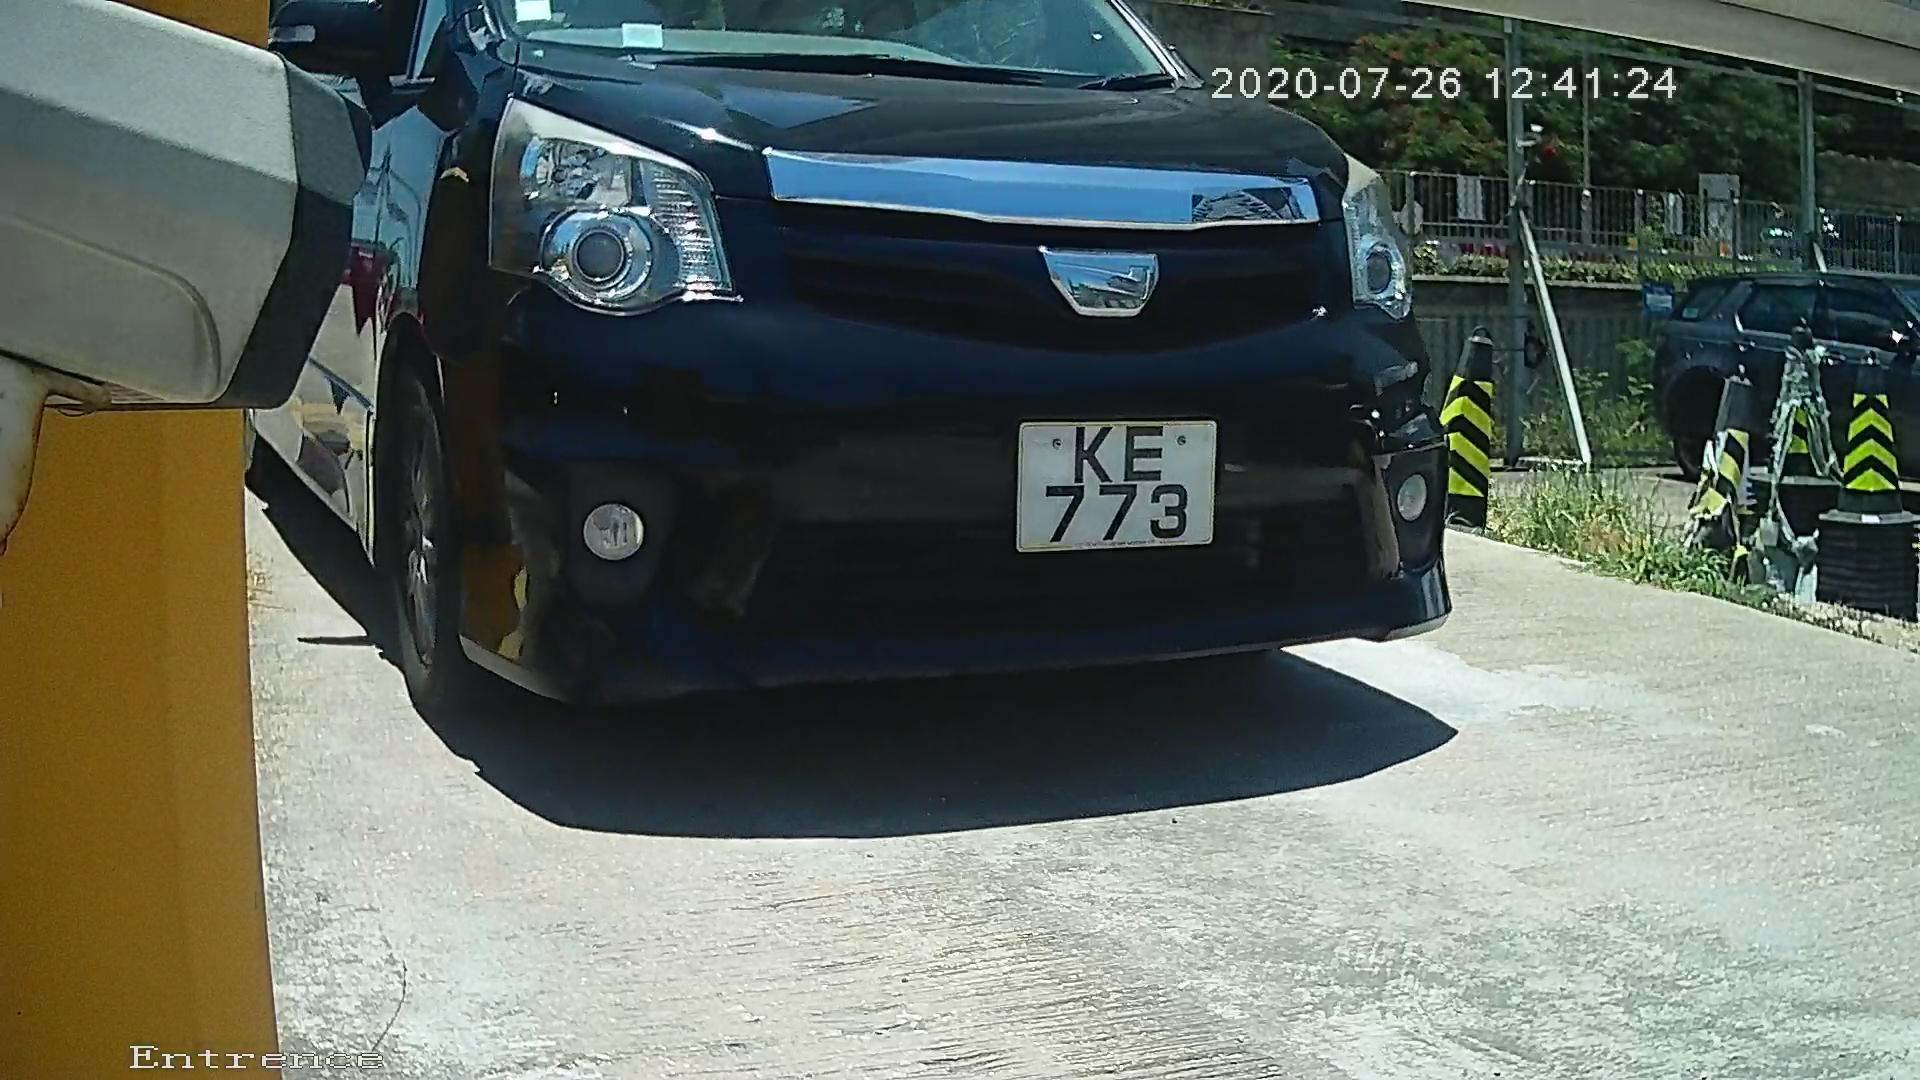privatecar: (309, 15, 1432, 782)
